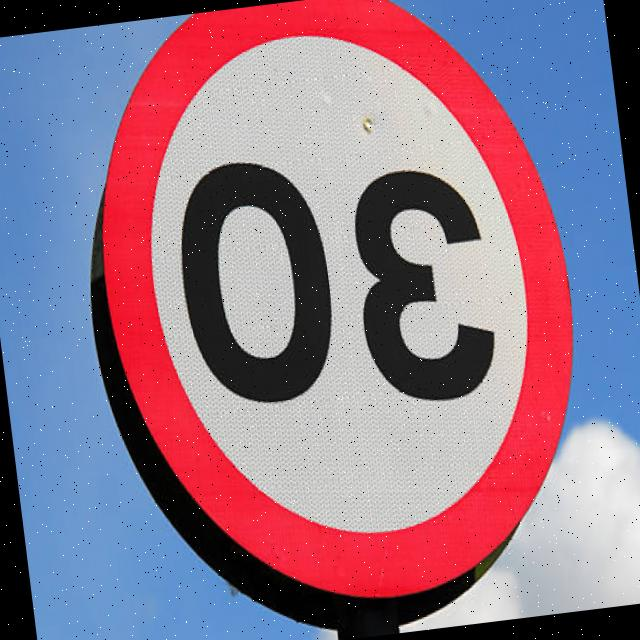speed_limit_30: (53, 0, 630, 640)
